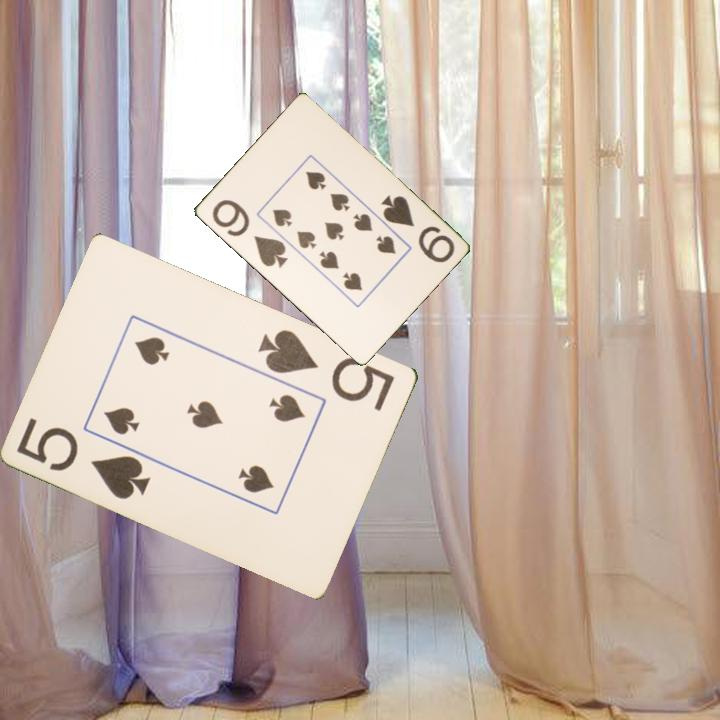5s: (255, 325, 398, 414), (13, 414, 154, 502)
9s: (208, 196, 290, 271), (377, 191, 457, 266)
